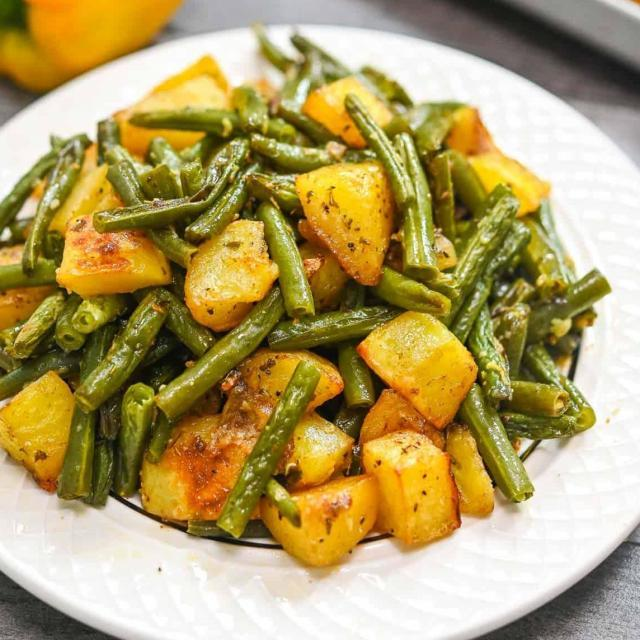Beans: (0, 30, 612, 573)
